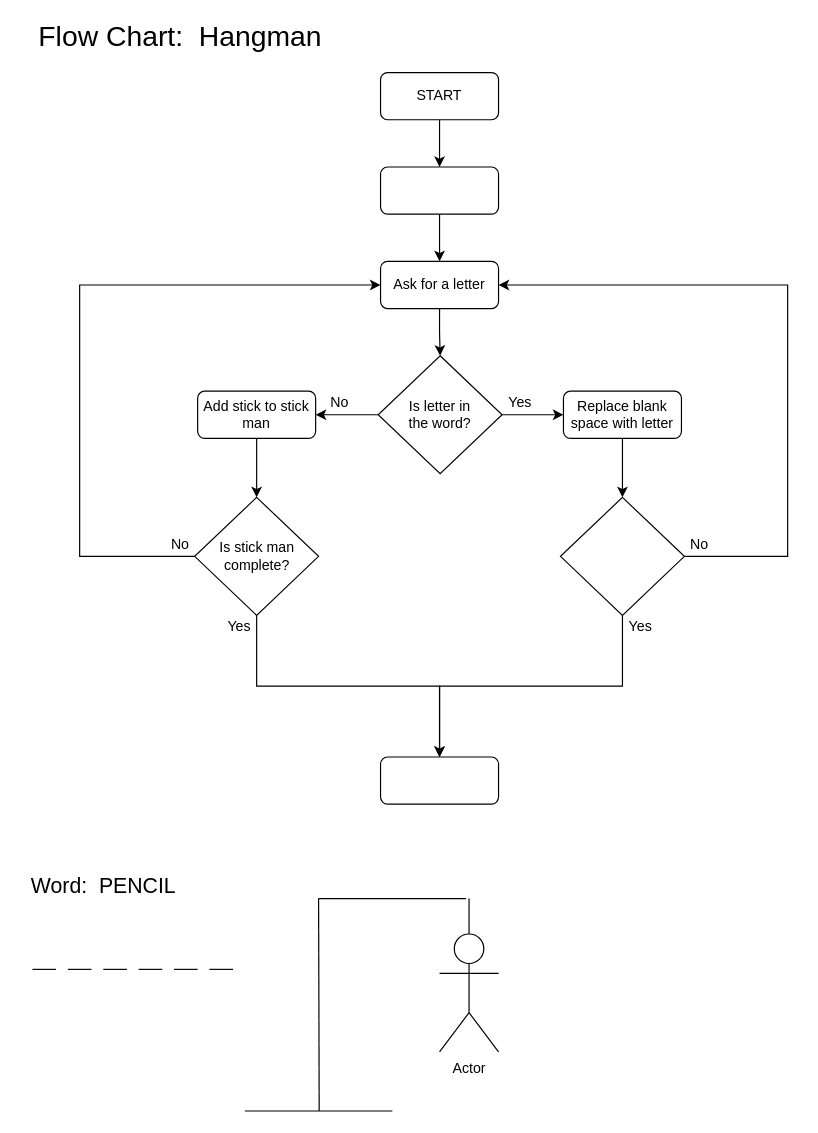
This 818x1133 diagram has some shape labels left out. The shapes that lost their labels are listed below. From the top down, each one's box as (x1, y1, x2, y2) in pixels, then its label:
(379, 166, 499, 214): Generate a random word
(559, 496, 684, 615): Is word solved?
(379, 756, 499, 804): Game Over
